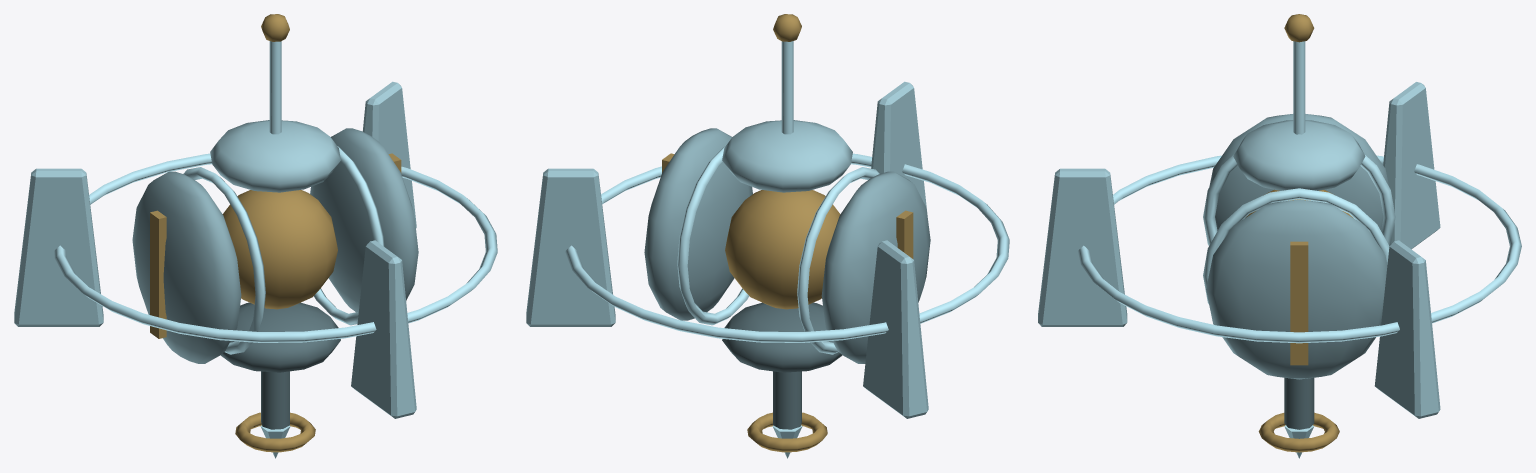
Rendered from conductor.glb.
The picture shows the model from 3 angles, left to right: view 1: azimuth 30°, elevation 25°; view 2: azimuth 150°, elevation 25°; view 3: azimuth 270°, elevation 25°; orthographic projection.
Visible parts, largest first — view 1: conductor*1.001, conductor*2.007, conductor*1.4, glow*0.4, conductor*2.005, conductor*2.004, conductor*2.0, conductor*0.6, conductor*2.006, conductor*2.001, glow*0.002, glow*0.005 (+4 smaller); view 2: conductor*1.4, conductor*2.006, conductor*1.001, glow*0.4, conductor*2.007, conductor*2.004, conductor*2.0, conductor*0.6, conductor*2.005, conductor*2.8, conductor*2.001, glow*0.005 (+4 smaller); view 3: conductor*1.4, conductor*2.005, conductor*2.006, conductor*2.004, conductor*2.0, conductor*2.007, conductor*1.001, conductor*2.8, glow*0.001, conductor*2.001, glow*0.005, conductor*0.001 (+2 smaller).
Boxes of the visible parts, x1,y1,x2,y2 form: conductor*1.001: [132, 171, 241, 363]; conductor*2.007: [14, 168, 103, 326]; conductor*1.4: [310, 128, 418, 312]; glow*0.4: [222, 190, 337, 309]; conductor*2.005: [351, 240, 416, 418]; conductor*2.004: [54, 153, 497, 342]; conductor*2.0: [210, 120, 340, 192]; conductor*0.6: [220, 302, 340, 372]; conductor*2.006: [362, 81, 416, 227]; conductor*2.001: [183, 167, 265, 354]; glow*0.002: [150, 210, 166, 338]; glow*0.005: [235, 412, 315, 452]; conductor*1.4: [644, 128, 752, 320]; conductor*2.006: [526, 168, 615, 326]; conductor*1.001: [821, 171, 930, 363]; glow*0.4: [725, 190, 840, 309]; conductor*2.007: [863, 240, 928, 418]; conductor*2.004: [565, 153, 1009, 342]; conductor*2.0: [722, 120, 852, 192]; conductor*0.6: [722, 302, 842, 372]; conductor*2.005: [871, 81, 927, 212]; conductor*2.8: [677, 146, 749, 325]; conductor*2.001: [797, 167, 879, 354]; glow*0.005: [747, 412, 827, 452]; conductor*1.4: [1206, 199, 1387, 379]; conductor*2.005: [1038, 168, 1127, 326]; conductor*2.006: [1374, 240, 1440, 418]; conductor*2.004: [1078, 155, 1521, 343]; conductor*2.0: [1233, 120, 1365, 190]; conductor*2.007: [1383, 82, 1440, 249]; conductor*1.001: [1209, 114, 1389, 230]; conductor*2.8: [1203, 188, 1389, 303]; glow*0.001: [1290, 241, 1308, 365]; conductor*2.001: [1203, 154, 1395, 245]; glow*0.005: [1258, 412, 1339, 452]; conductor*0.001: [1284, 377, 1314, 429].
Size of the model in its own units: 1.54 by 1.63 by 1.61.
